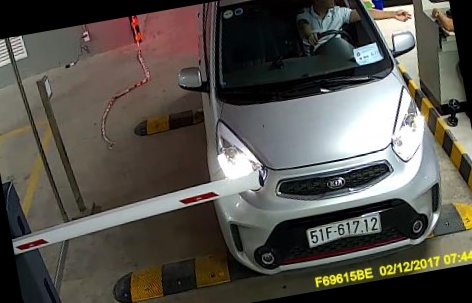plate: (299, 211, 389, 254)
